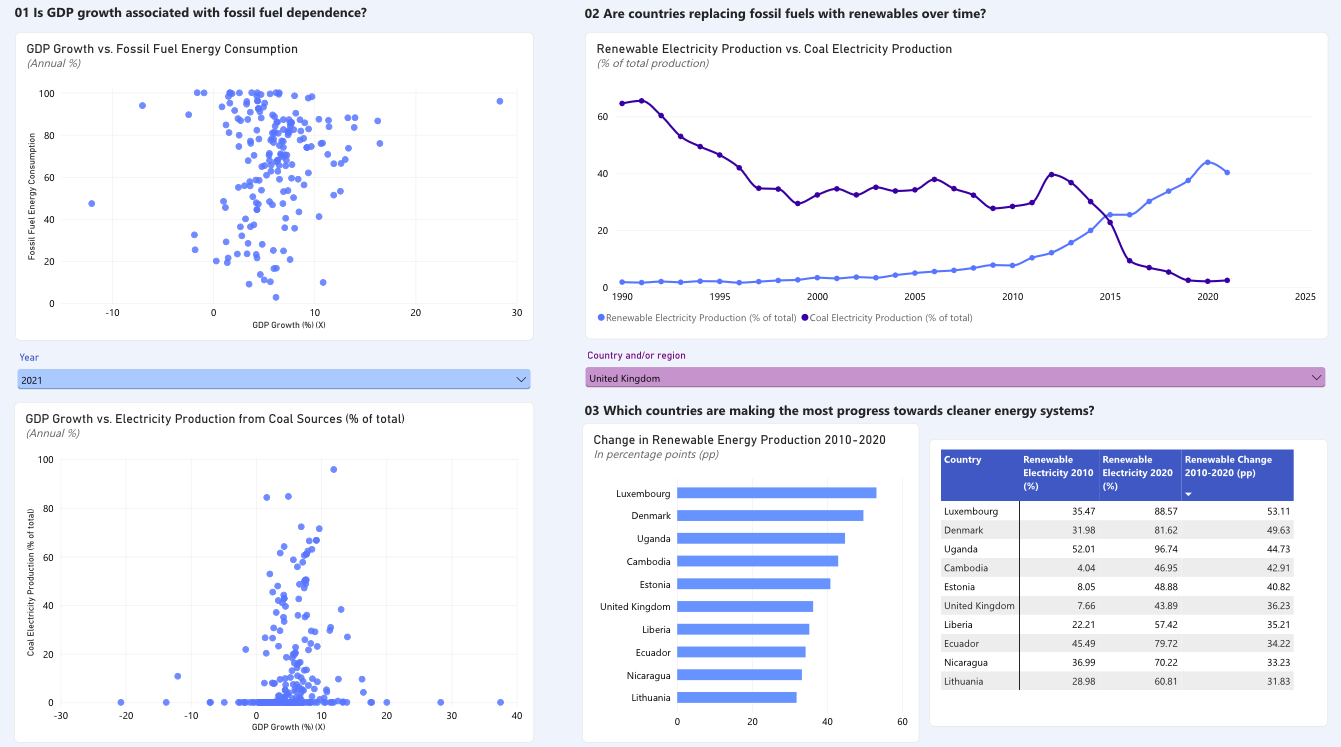

What the dashboard file says about the page in this screenshot:
{"tool":"powerbi","page":{"name":"Page 1","canvas":[1920,1080],"ordinal":0},"visuals":[{"type":"textbox","box":[22.3,14.9,753.7,40.2],"z":0},{"type":"slicer","fields":{"Values":["WB_ESG.TIME_PERIOD"]},"box":[20.9,513.9,743.3,70],"z":1000},{"type":"scatterChart","title":"GDP Growth vs. Fossil Fuel Energy Consumption","fields":{"Category":["WB_ESG.REF_AREA_LABEL"],"X":["WB_ESG.GDP Growth (%) (X)"],"Y":["WB_ESG.Fossil Fuel Energy Consumption"]},"box":[22.3,55.1,741.8,440.9],"z":2000},{"type":"scatterChart","title":"GDP Growth vs. Electricity Production from Coal Sources (% of total)","fields":{"Category":["WB_ESG.REF_AREA_LABEL"],"X":["WB_ESG.GDP Growth (%) (X)"],"Y":["WB_ESG.Coal Electricity Production (% of total)"]},"box":[20.9,583.9,743.3,487.1],"z":3000},{"type":"textbox","box":[1137,25,697.5,42.5],"z":4000},{"type":"lineChart","title":"Renewable Electricity Production vs. Coal Electricity Production ","fields":{"Category":["WB_ESG.TIME_PERIOD"],"Y":["WB_ESG.Renewable Electricity Production  (%  of  total)","WB_ESG.Coal Electricity Production (% of total)"]},"box":[837.1,55.1,1062,439.4],"z":5000},{"type":"textbox","box":[836.7,15,1061.7,35],"z":6000},{"type":"slicer","fields":{"Values":["WB_ESG.REF_AREA_LABEL"]},"box":[832.6,510.9,1068,59.6],"z":7000},{"type":"clusteredBarChart","title":"Change in Renewable Energy Production 2010-2020","fields":{"Category":["WB_ESG.REF_AREA_LABEL"],"Y":["WB_ESG.Renewable Change 2010-2020 (pp)"]},"box":[832.9,614.3,482.6,457.3],"z":8000},{"type":"pivotTable","fields":{"Rows":["WB_ESG.REF_AREA_LABEL"],"Values":["WB_ESG.Renewable Electricity 2010 (%)","WB_ESG.Renewable Electricity 2020 (%)","WB_ESG.Renewable Change 2010-2020 (pp)"]},"box":[1328.7,637.5,570.5,411.1],"z":9000},{"type":"textbox","box":[100,100,300,300],"z":10000},{"type":"textbox","box":[836.7,583.3,1063.3,31.7],"z":10001}]}

Visuals, with their boxes in screenshot pixels (x1, y1, x2, y2), scaled from the page's 1920x1080 canvas onto the 1341x747 screenshot:
textbox: 16 10 542 38
slicer - WB_ESG.TIME_PERIOD: 15 355 534 404
"GDP Growth vs. Fossil Fuel Energy Consumption" scatterChart: 16 38 534 343
"GDP Growth vs. Electricity Production from Coal Sources (% of total)" scatterChart: 15 404 534 741
textbox: 794 17 1281 47
"Renewable Electricity Production vs. Coal Electricity Production " lineChart: 585 38 1326 342
textbox: 584 10 1326 35
slicer - WB_ESG.REF_AREA_LABEL: 582 353 1327 395
"Change in Renewable Energy Production 2010-2020" clusteredBarChart: 582 425 919 741
pivotTable - WB_ESG.REF_AREA_LABEL x WB_ESG.Renewable Electricity 2010 (%): 928 441 1326 725
textbox: 70 69 279 277
textbox: 584 403 1327 425
